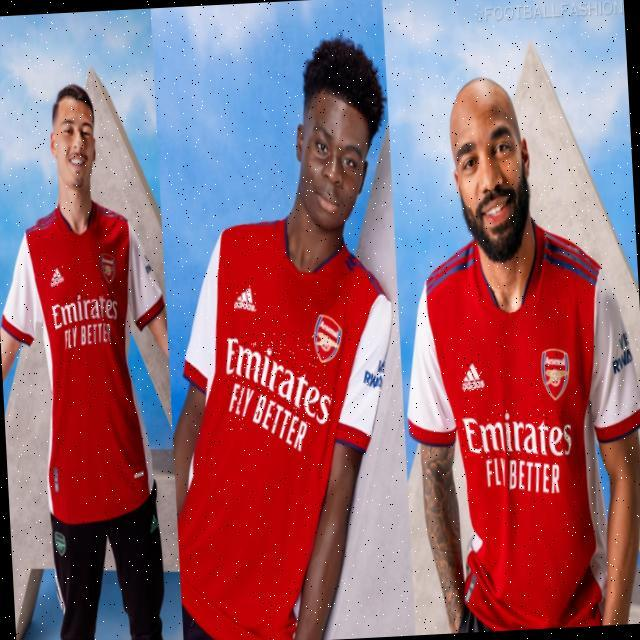Adidas: (460, 360, 485, 393), (234, 286, 257, 314), (49, 265, 65, 288)
Emirates: (225, 330, 334, 430), (463, 407, 573, 463), (50, 292, 118, 331)
